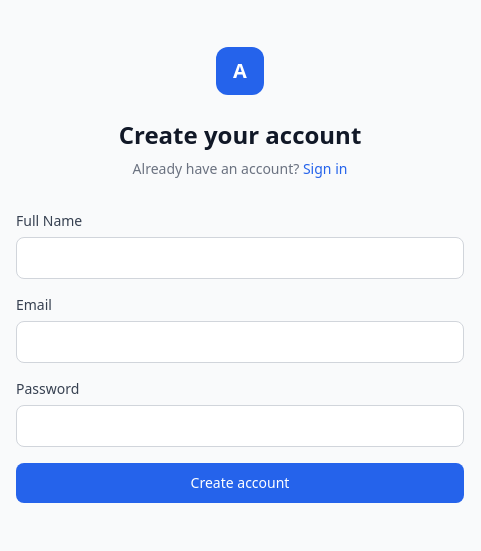
Scenario: SignupPage › shows a signup error when the API fails
Type "Alex Doe" into the field labelled "Full name" at (240, 258), box left=16, top=237, right=464, bottom=279
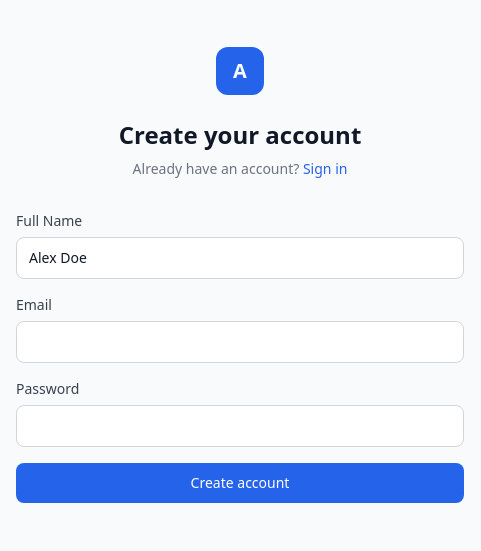
Type "alex@example.com" into the field labelled "email" at (240, 342), box left=16, top=321, right=464, bottom=363
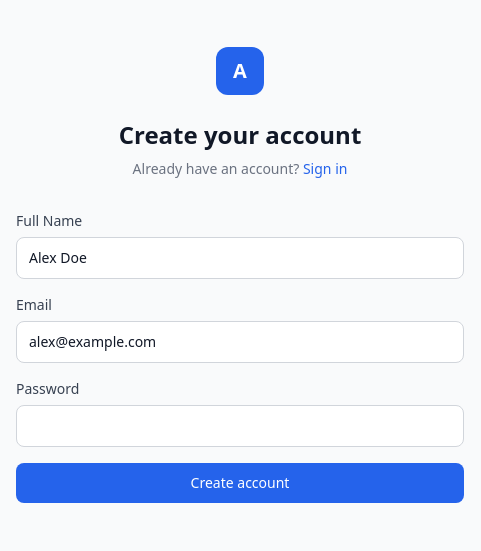
Type "password123" into the password field labelled "password" at (240, 426), box left=16, top=405, right=464, bottom=447
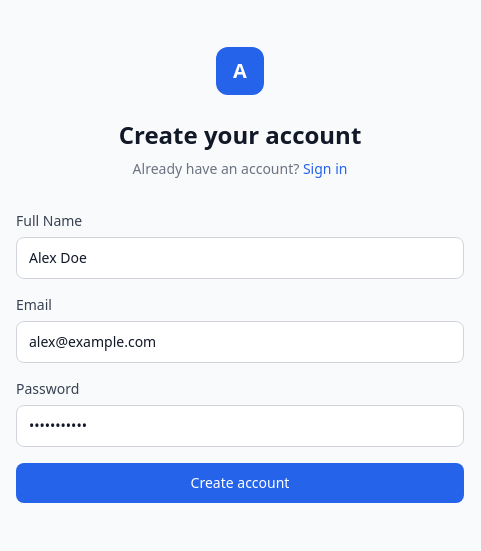
Click the button "Create account" at (240, 483), box left=16, top=463, right=464, bottom=503
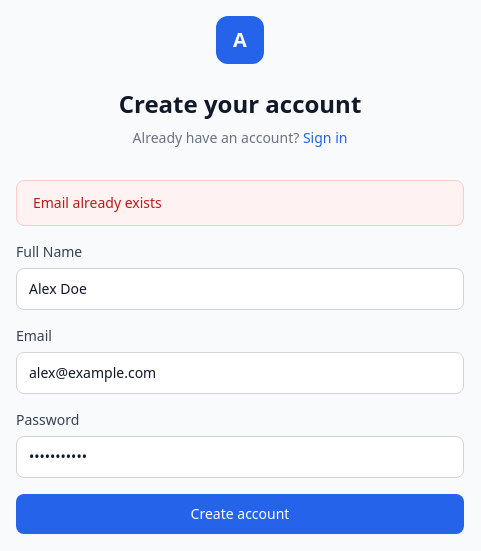
Now the text "Email already exists" is shown, box left=16, top=180, right=464, bottom=226
